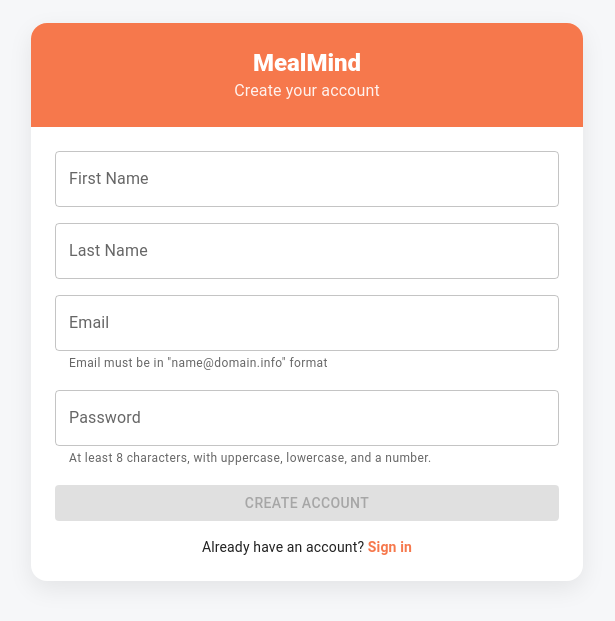
Test: RegisterPage › enables submit button when form is valid
Type "Justin" into the field labelled "First Name" at coordinates (307, 179), box [55,151,559,207]
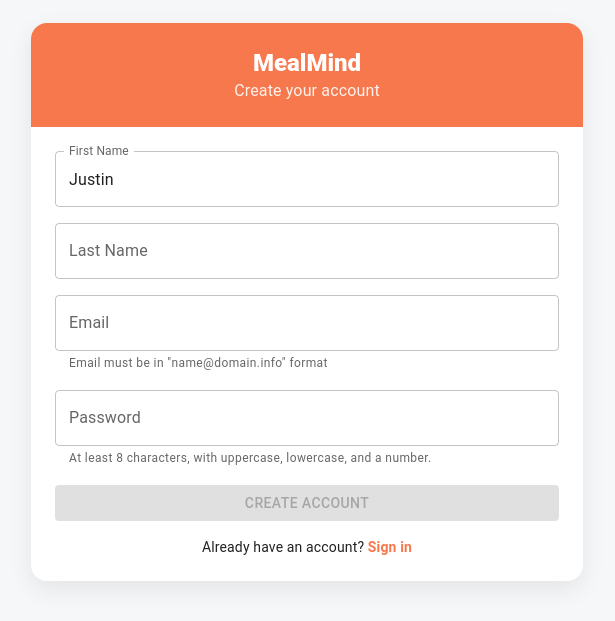
Type "McLinn" into the field labelled "Last Name" at coordinates (307, 251), box [55,223,559,279]
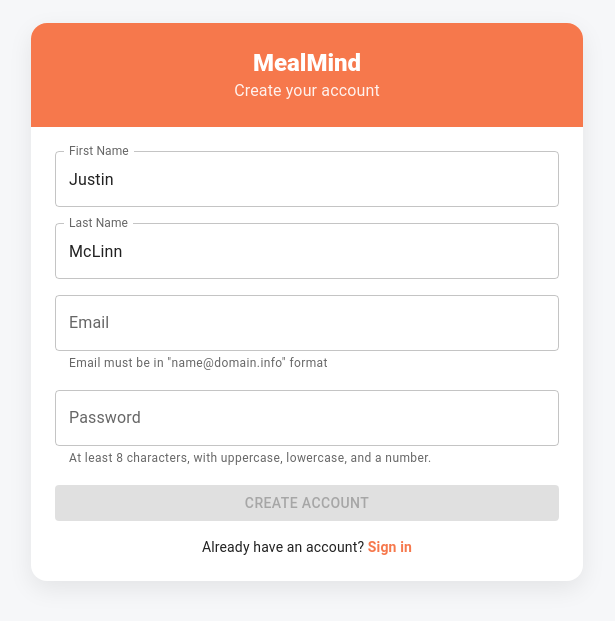
Type "test@email.com" into the field labelled "Email" at coordinates (307, 323), box [55,295,559,351]
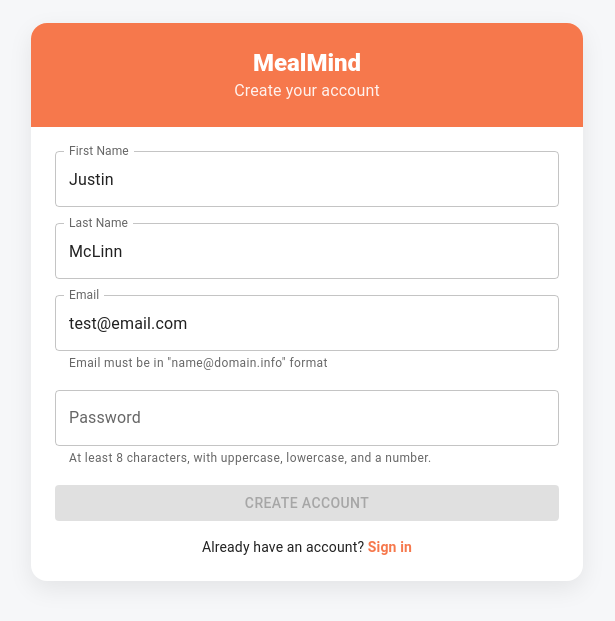
Type "Password1" into the password field labelled "Password" at coordinates (307, 418), box [55,390,559,446]
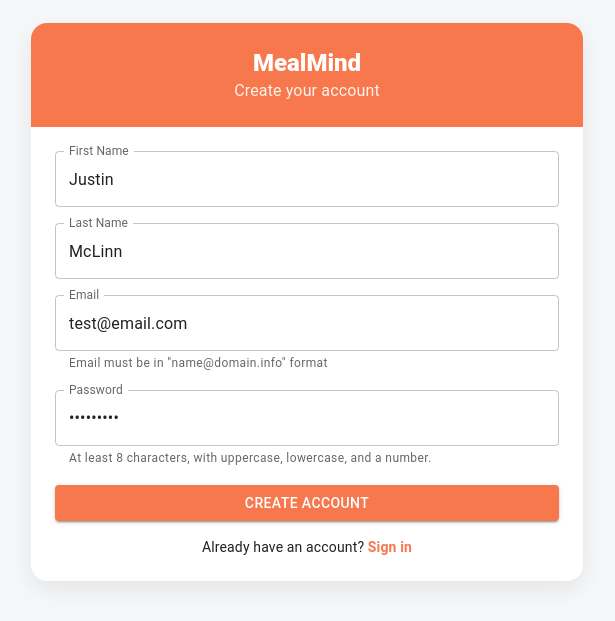
Expected: the button "Create Account" is enabled, [55,485,559,521]
